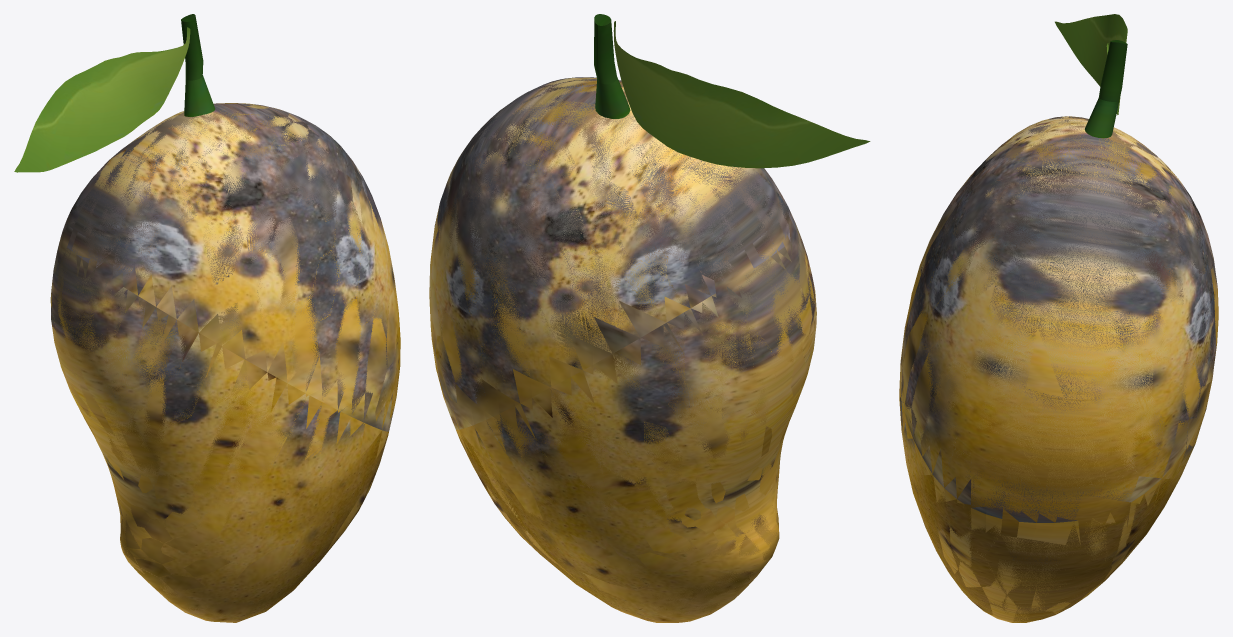
The model's file is posa amm.fbx.
The picture shows the model from 3 angles, left to right: view 1: azimuth 30°, elevation 25°; view 2: azimuth 150°, elevation 25°; view 3: azimuth 270°, elevation 25°; orthographic projection. The views are drawn at different scales.
Visible parts, largest first — view 1: posa_mango1, posa_mango_cut_A, posa_mango_cut_B; view 2: posa_mango1, posa_mango_cut_A, posa_mango_cut_B; view 3: posa_mango1, posa_mango_cut_A, posa_mango_cut_B.
Boxes of the visible parts, left/top/right/bottom form: posa_mango1: left=15, top=15, right=400, bottom=622; posa_mango_cut_A: left=14, top=14, right=397, bottom=431; posa_mango_cut_B: left=50, top=242, right=388, bottom=622; posa_mango1: left=430, top=14, right=868, bottom=622; posa_mango_cut_A: left=429, top=14, right=870, bottom=429; posa_mango_cut_B: left=456, top=234, right=816, bottom=622; posa_mango1: left=900, top=14, right=1217, bottom=622; posa_mango_cut_A: left=900, top=21, right=1218, bottom=522; posa_mango_cut_B: left=899, top=380, right=1210, bottom=622.
Size of the model in its own units: 896 by 1308 by 653.
